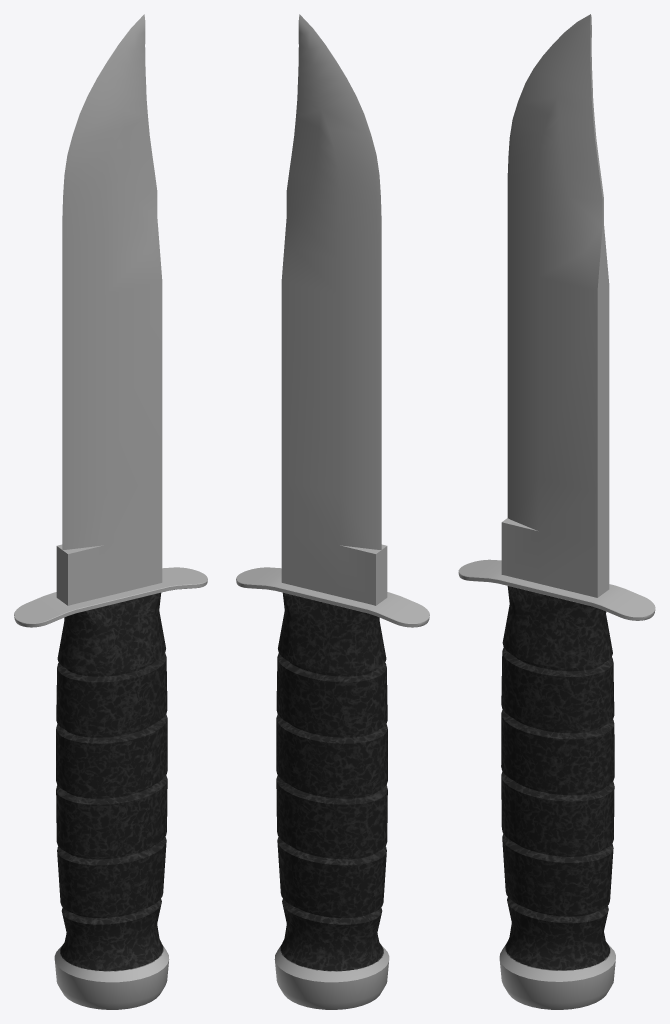
File: Combat Knife.fbx
3 views of the same model, side by side, from view 1: azimuth 30°, elevation 25°; view 2: azimuth 150°, elevation 25°; view 3: azimuth 330°, elevation 25° (orthographic).
Visible parts, largest first — view 1: Blade (Low), Handle (Low), Guard (Low); view 2: Blade (Low), Handle (Low), Guard (Low); view 3: Blade (Low), Handle (Low), Guard (Low).
Boxes of the visible parts, x1,y1,x2,y2 form: Blade (Low): (56, 14, 162, 605); Handle (Low): (54, 592, 169, 1009); Guard (Low): (14, 567, 207, 627); Blade (Low): (281, 14, 387, 605); Handle (Low): (274, 592, 389, 1009); Guard (Low): (236, 567, 429, 627); Blade (Low): (501, 14, 609, 597); Handle (Low): (499, 586, 615, 1009); Guard (Low): (458, 559, 655, 620).
Bounding box in the file's own units: 93.49 × 460 × 49.58.
Materials: 1 (1 with a texture image).
